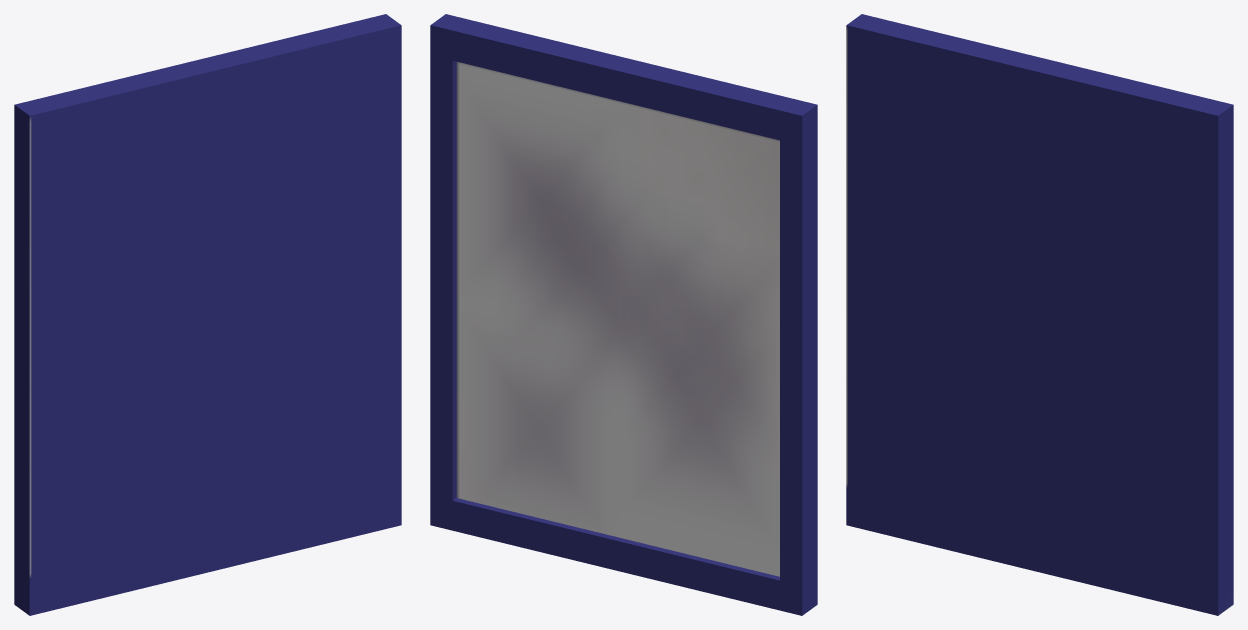
Rendered from Espejo.obj.
3 views of the same model, side by side, from view 1: azimuth 30°, elevation 25°; view 2: azimuth 150°, elevation 25°; view 3: azimuth 330°, elevation 25° (orthographic).
Visible parts, largest first — view 1: Cube.008_Cube.027; view 2: Cube.008_Cube.027; view 3: Cube.008_Cube.027.
Boxes of the visible parts, x1,y1,x2,y2 form: Cube.008_Cube.027: (14, 14, 401, 615); Cube.008_Cube.027: (430, 14, 817, 615); Cube.008_Cube.027: (846, 14, 1233, 615).
Bounding box in the file's own units: 7 × 9 × 0.5.
1 material, 1 textured.
